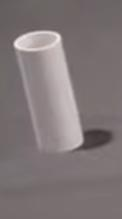coral: (12, 30, 84, 153)
